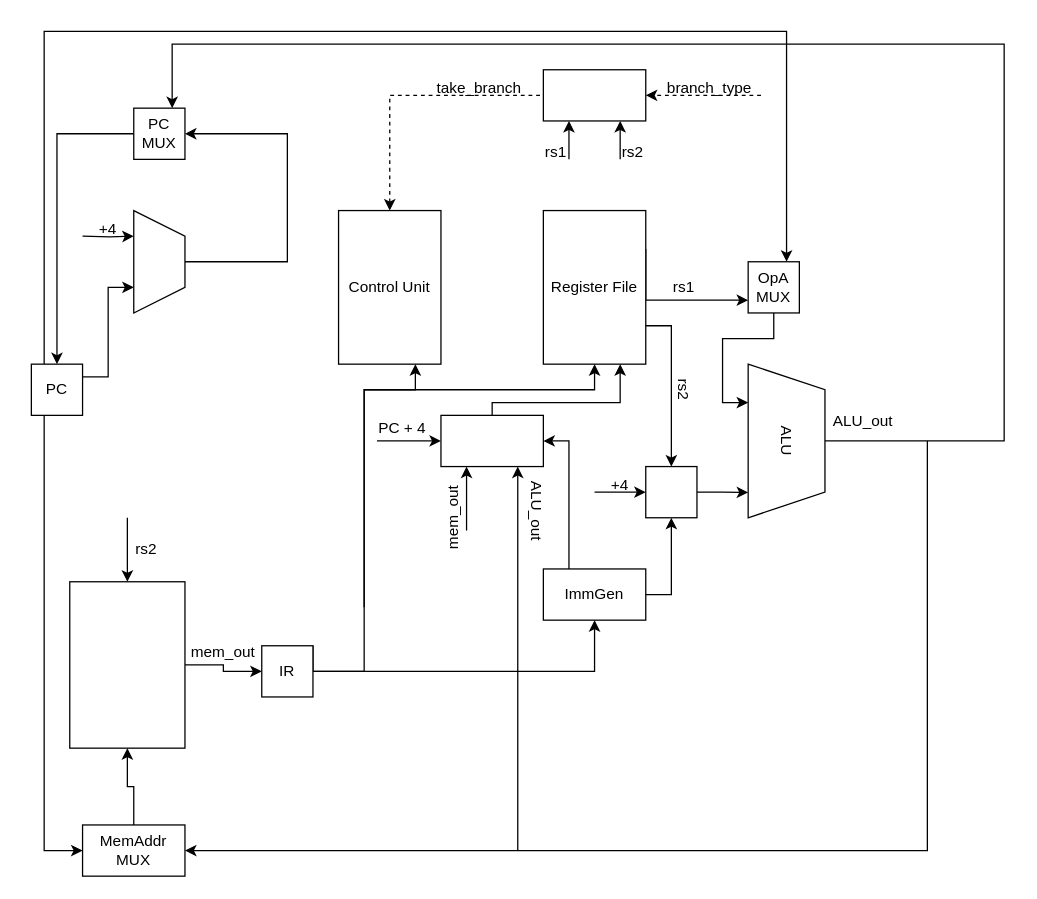
Some shapes in this 1037 by 899 pixel diagram are drawn without their labels. Each missing label, with the centre of its shape:
ADD: point 158,261
Branch Unit: point 594,94
Memory: point 126,664
OpB MUX: point 670,491
WriteBack MUX: point 491,440
